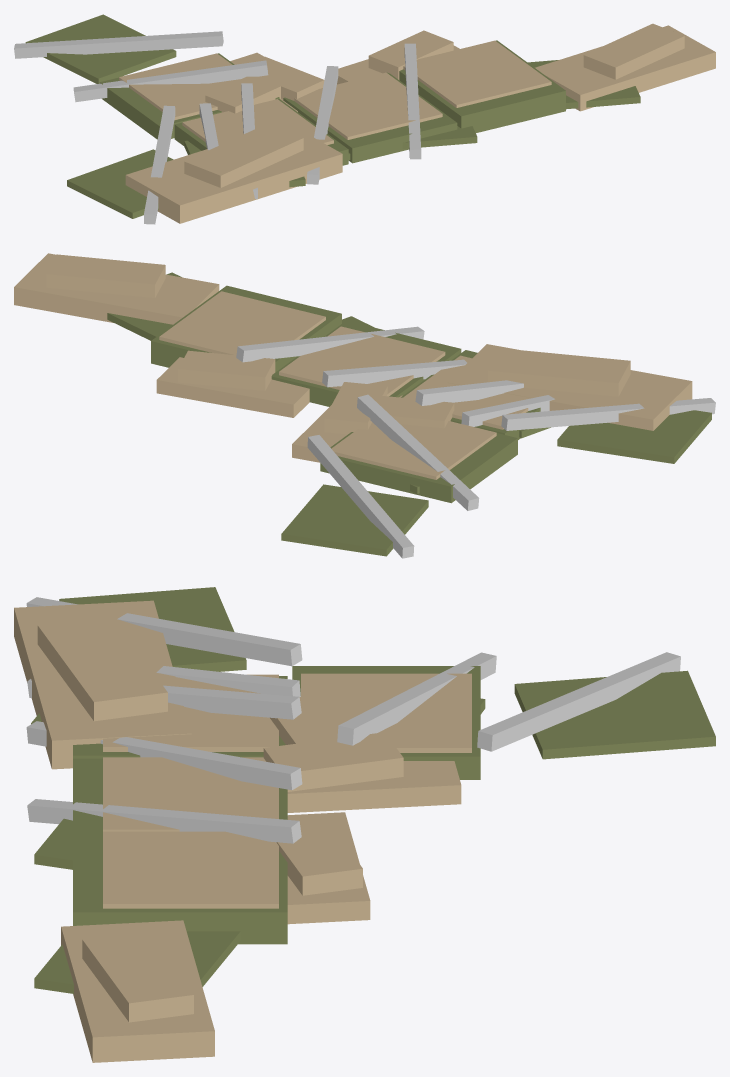
Rendered from SM_HescoRemate_v2_Escalonado_e3_Brecha_LOD1.fbx.
3 renders of one model, top to bottom at view 1: azimuth 30°, elevation 25°; view 2: azimuth 150°, elevation 25°; view 3: azimuth 270°, elevation 25°, orthographic. The views are drawn at different scales.
Visible parts, largest first — view 1: SM_hesco_piezas_v31_LOD1; view 2: SM_hesco_piezas_v31_LOD1; view 3: SM_hesco_piezas_v31_LOD1.
Part boxes in pixels (x1=…): SM_hesco_piezas_v31_LOD1: x1=14, y1=14, x2=715, y2=224; SM_hesco_piezas_v31_LOD1: x1=14, y1=253, x2=715, y2=558; SM_hesco_piezas_v31_LOD1: x1=14, y1=587, x2=715, y2=1062.
Size of the model in its own units: 6.23 by 0.351 by 3.99.
